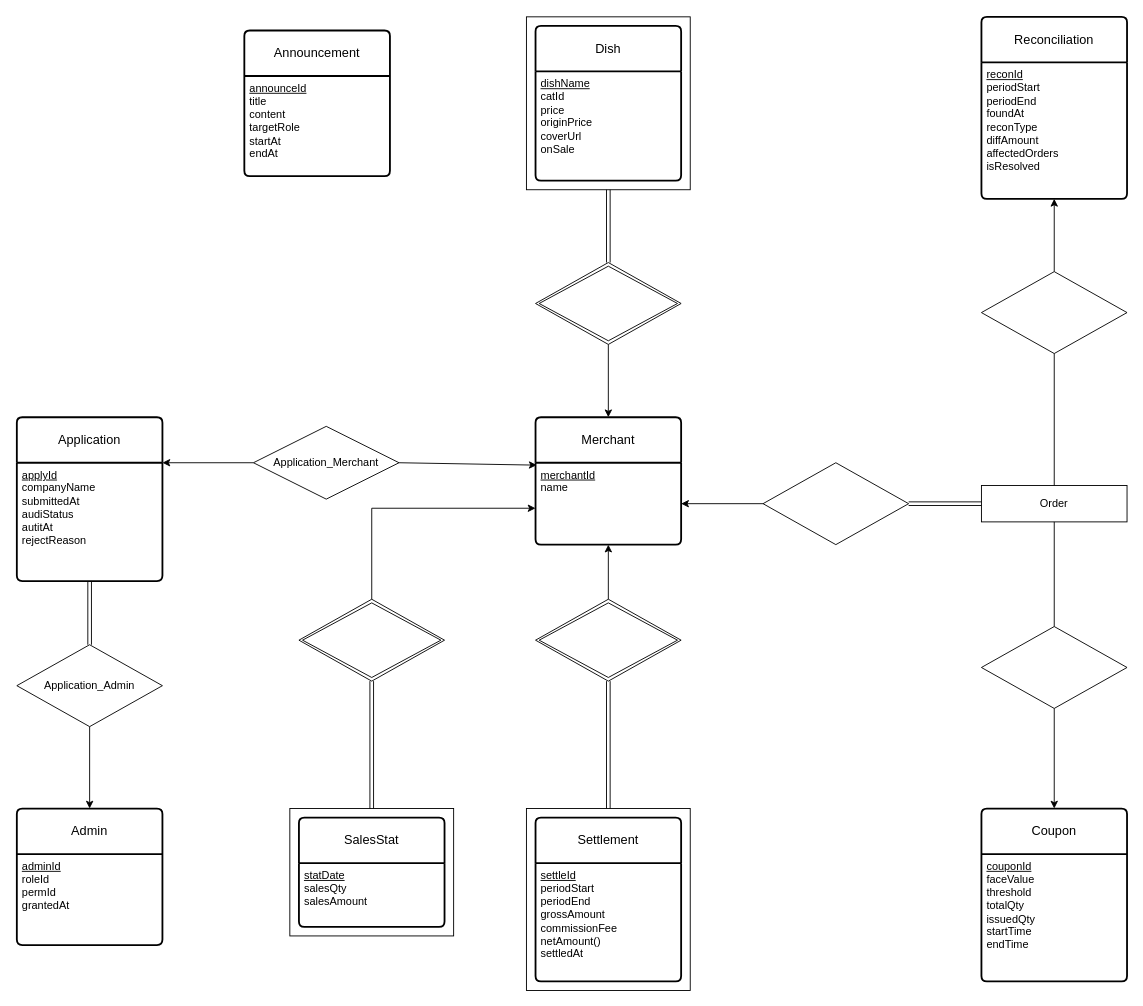
This 1143x1006 diagram has some shape labels left out. The shapes that lost their labels are listed below. From the top down, each one's centre as x and y in pixels, then its label:
the point at 608,303: Dish_Merchant
the point at 1054,312: Order_Reconciliation
the point at 835,503: Order_Merchant
the point at 371,639: SalesStat_Merchant
the point at 608,639: Settlement_Merchant
the point at 1054,667: Order_Coupon
